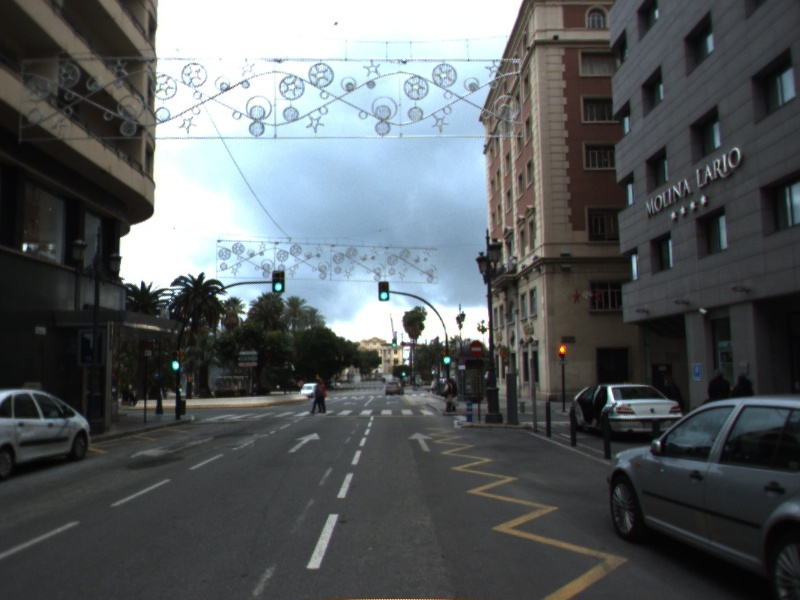STRAIGHT: (285, 431, 323, 454), (405, 430, 435, 453)
STRAIGHT_LEFT: (128, 435, 215, 461)
